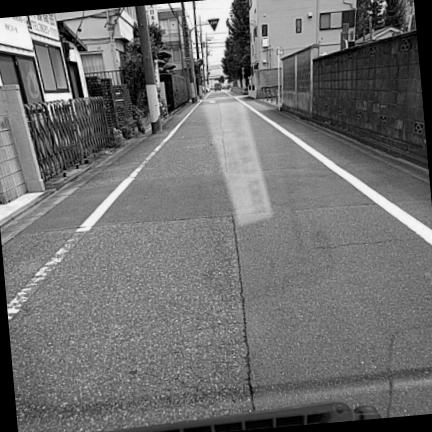Road: (2, 92, 431, 431)
